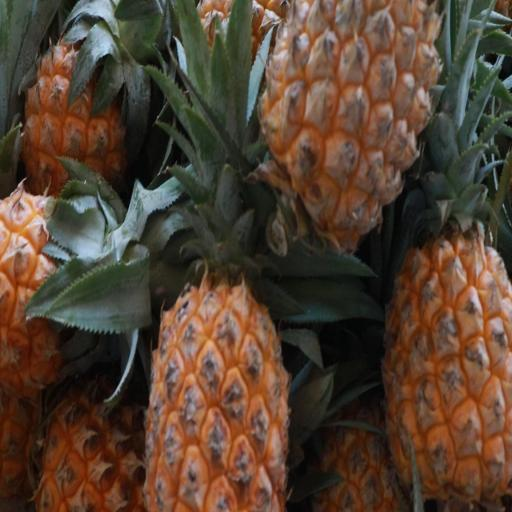Pineapple - v8 v1: (254, 0, 444, 272), (376, 151, 512, 512), (142, 239, 291, 512), (0, 177, 135, 396), (18, 0, 135, 218), (27, 379, 150, 512)
